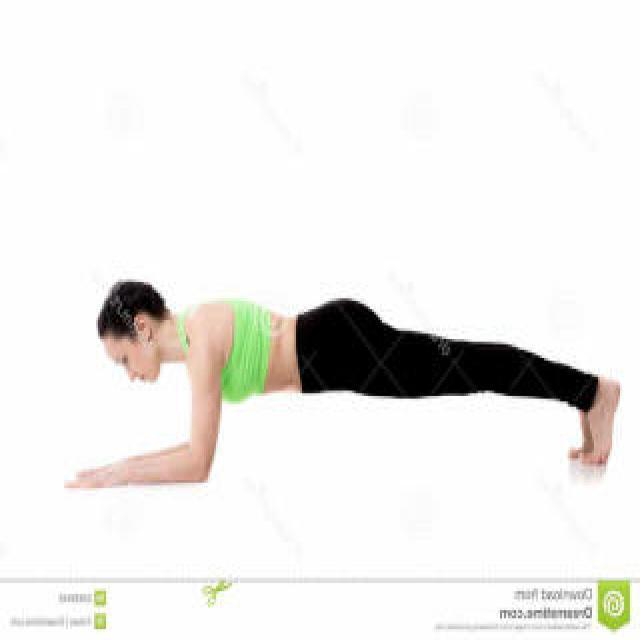yoga-pose plank: (58, 282, 620, 501)
